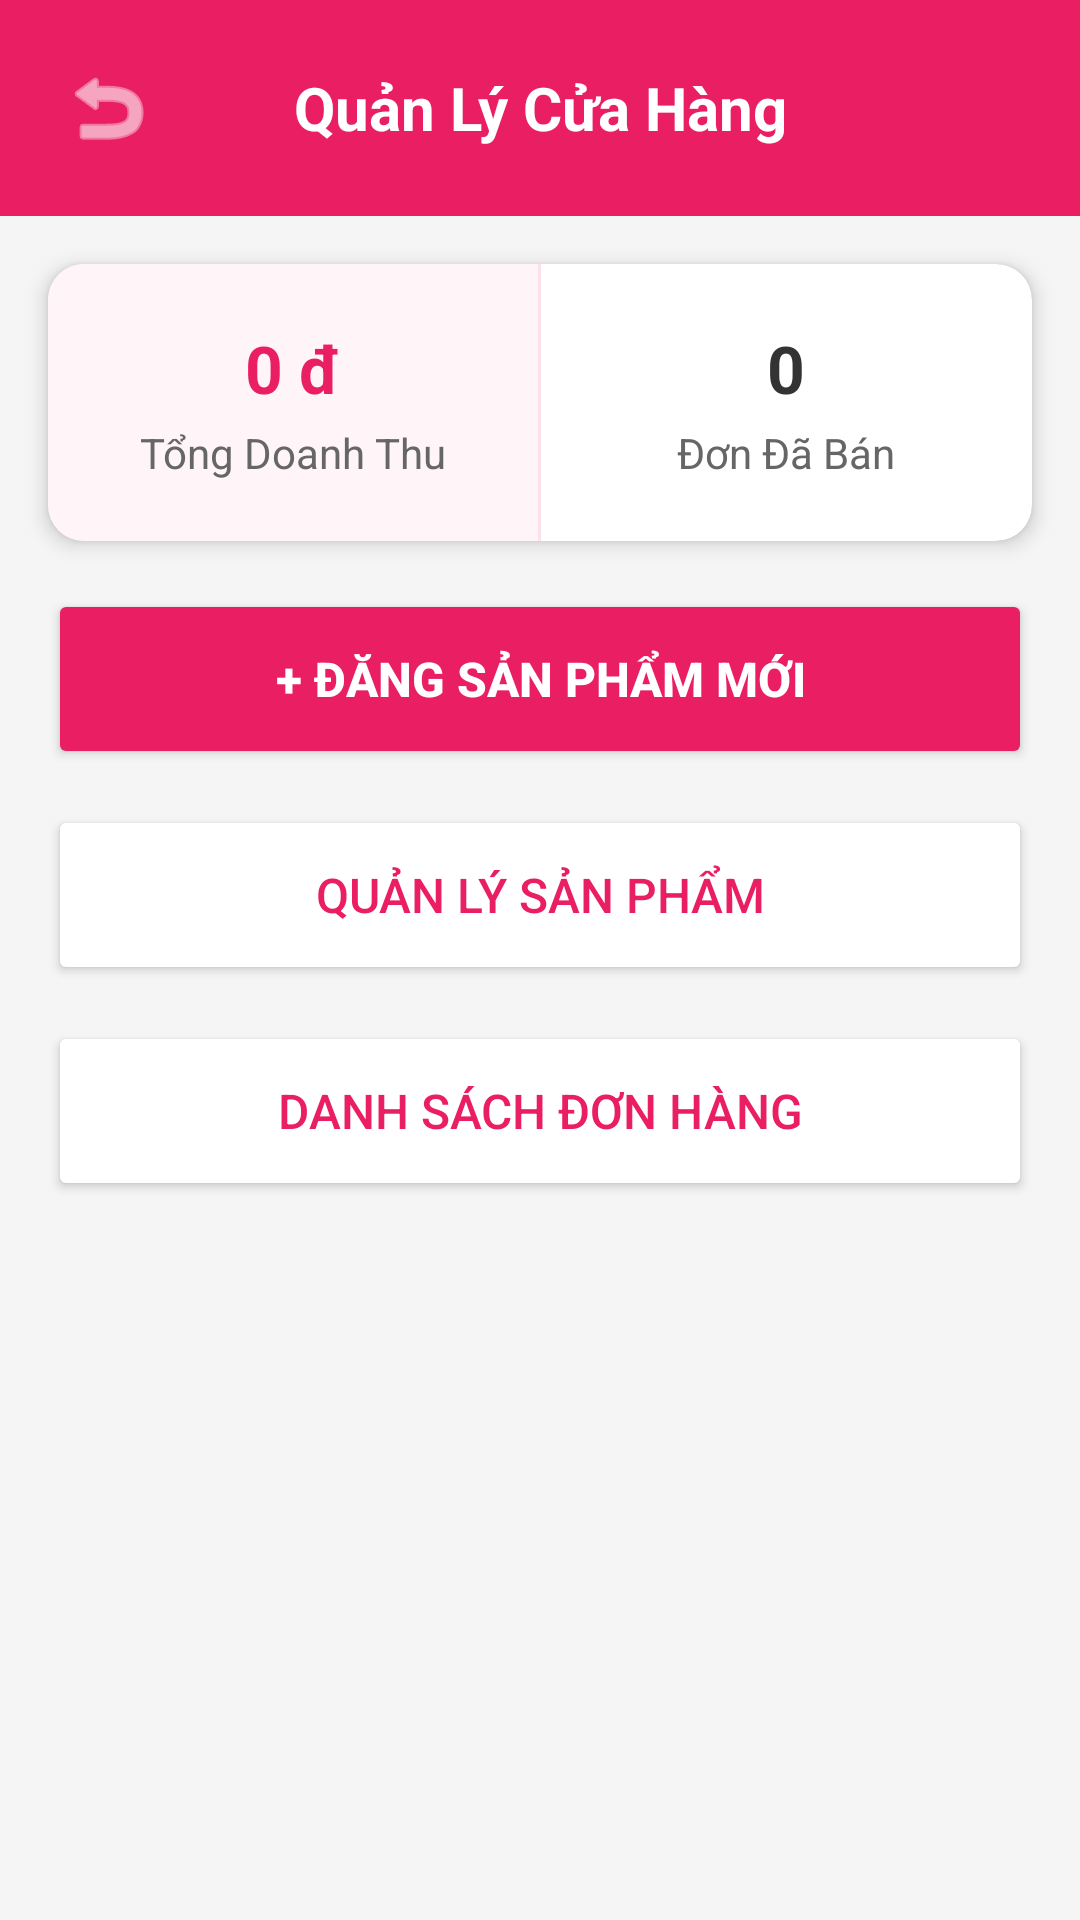

Icons on this 1080 x 1920 Android screen, each with the point to tap as point (x, y):
revert: point (109, 108)
